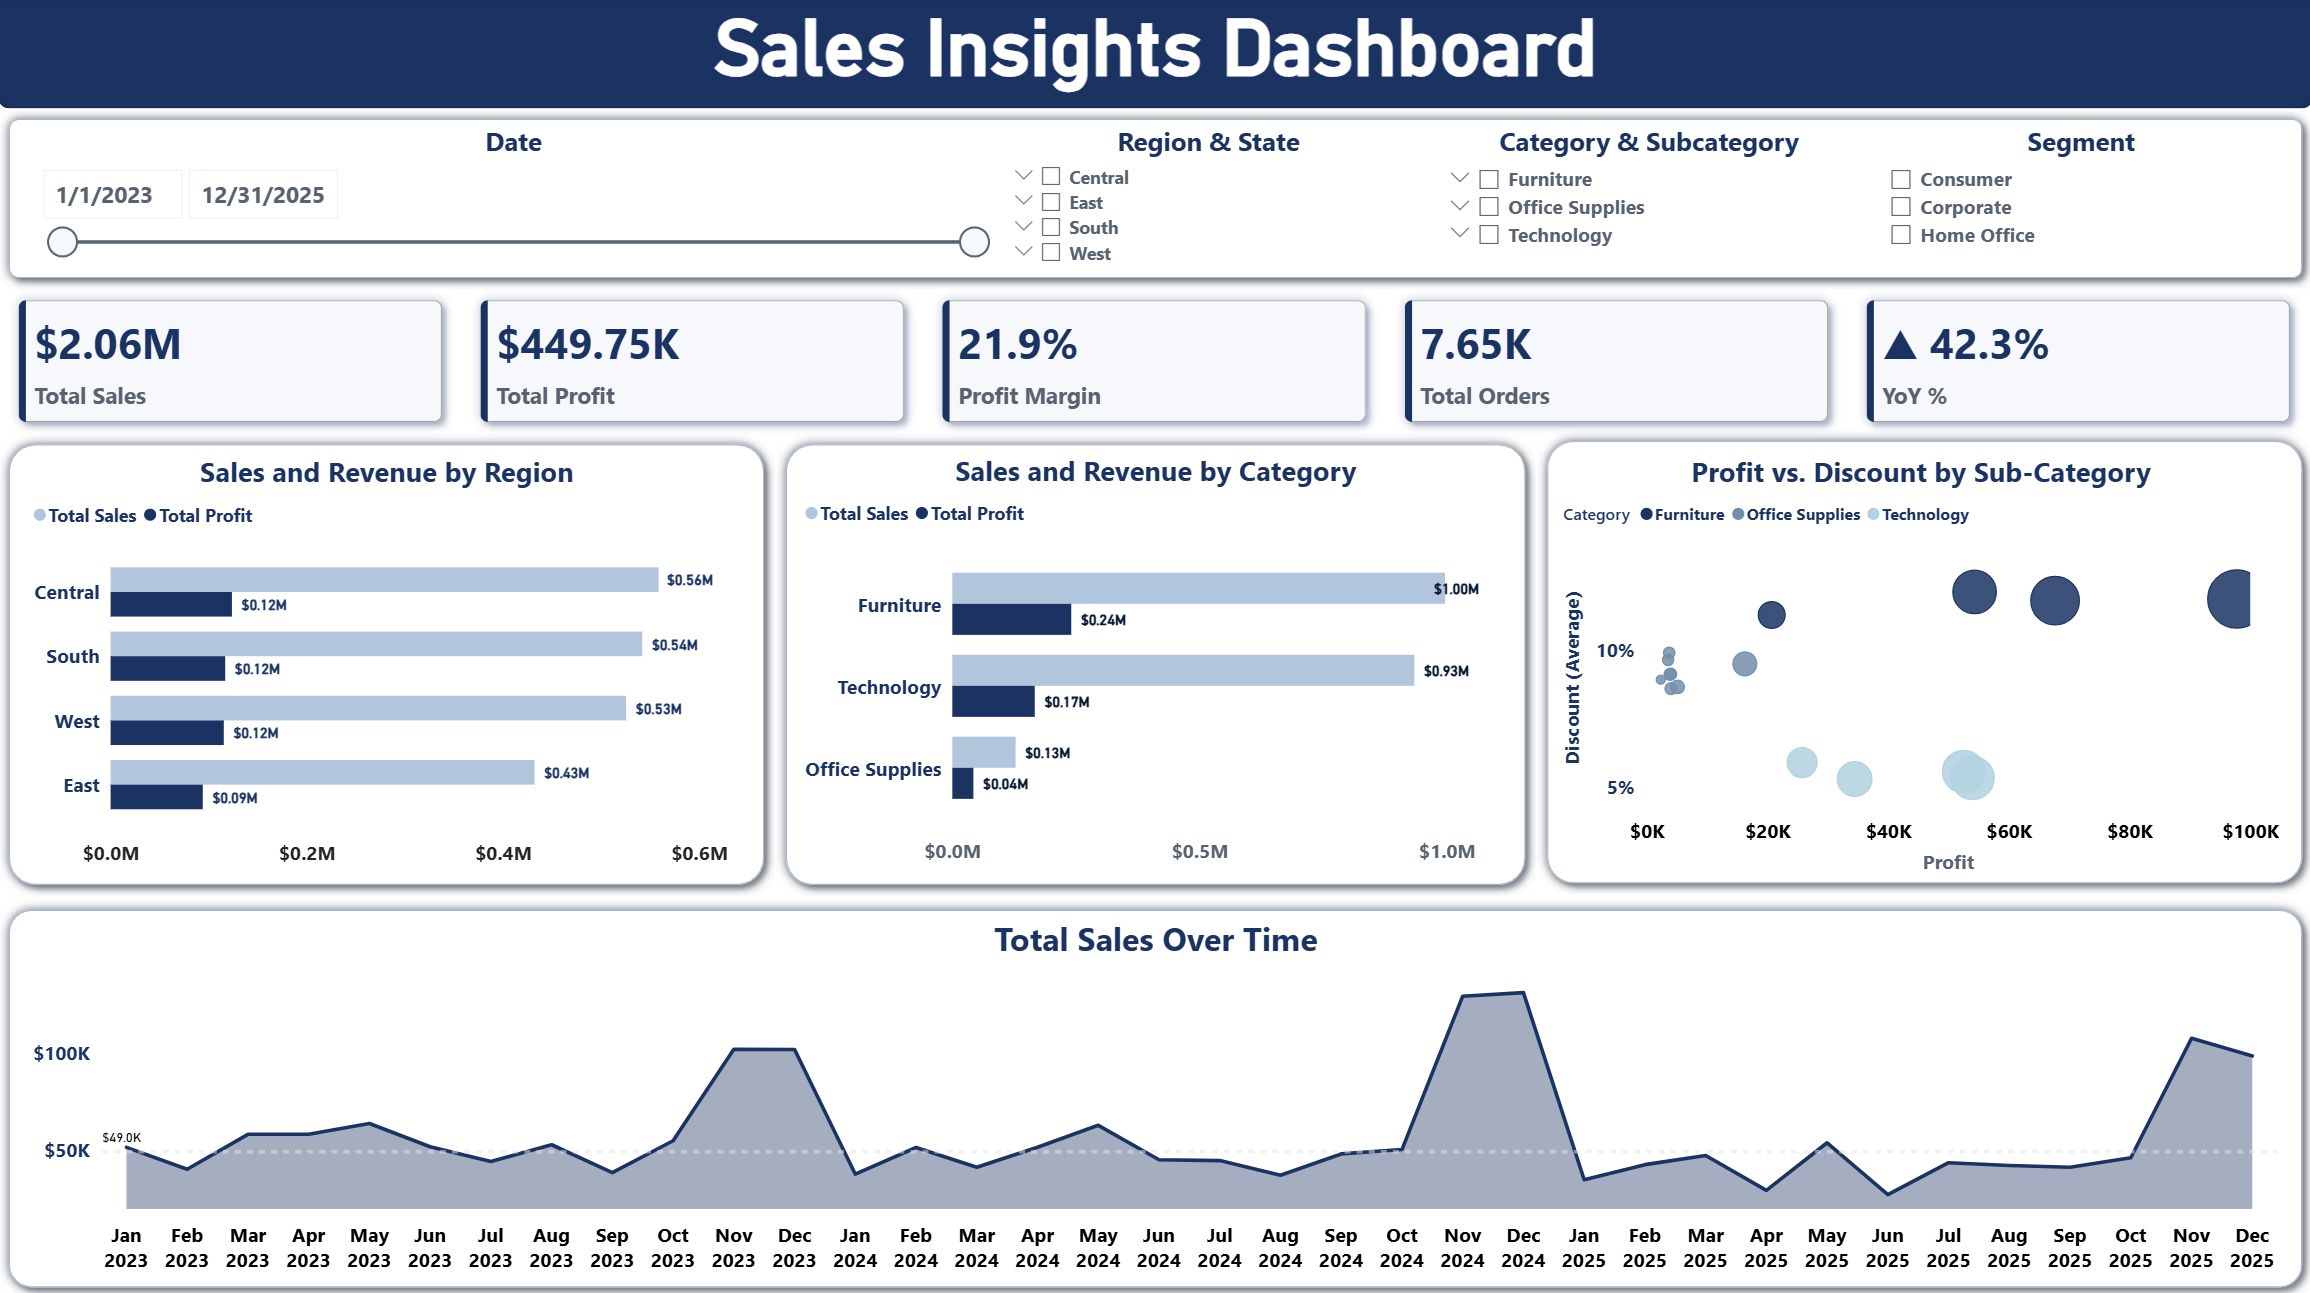

This screenshot's page, from the dashboard's own definition file:
{"tool":"powerbi","page":{"name":"Sales Insights Dashboard","canvas":[1920,1080],"ordinal":0},"visuals":[{"type":"cardVisual","fields":{"Data":["Sum(retail_sales_data.Sales)","Sum(retail_sales_data.Profit)","retail_sales_data.Profit Margin","retail_sales_data.Total Orders","retail_sales_data.YoY Display"]},"box":[0,234.8,1919.3,135.3],"z":0},{"type":"shape","box":[0,0,1919.3,92.9],"z":1000},{"type":"textbox","box":[0,0,1919.2,85.6],"z":2000},{"type":"shape","box":[0,92.9,1919.3,150],"z":3000},{"type":"shape","box":[0,748.5,1919.3,331],"z":4000},{"type":"slicer","title":"Date","fields":{"Values":["Date.Date"]},"box":[24.5,106,805.6,123.9],"z":5000},{"type":"slicer","title":"Region & State","fields":{"Values":["retail_sales_data.Region","retail_sales_data.State"]},"box":[830,106,347.3,123.9],"z":6000},{"type":"slicer","title":"Segment","fields":{"Values":["retail_sales_data.Segment"]},"box":[1557.3,106,340.8,123.9],"z":7000},{"type":"slicer","title":"Category & Subcategory","fields":{"Values":["retail_sales_data.Category","retail_sales_data.Sub_Category"]},"box":[1190.4,106,355.5,123.9],"z":8000},{"type":"lineChart","title":"Total Sales Over Time","fields":{"Category":["Date.Month Year"],"Y":["retail_sales_data.Total Sales"]},"box":[22.8,763.2,1873.7,303.3],"z":9000},{"type":"shape","box":[644.1,362,631.1,383.2],"z":10000},{"type":"shape","box":[1275.2,360.4,644.1,384.8],"z":11000},{"type":"shape","box":[0,362,644.1,383.2],"z":12000},{"type":"clusteredBarChart","title":"Sales and Revenue by Region","fields":{"Category":["retail_sales_data.Region","retail_sales_data.State"],"Y":["retail_sales_data.Total Sales","retail_sales_data.Total Profit"]},"box":[22.8,378.3,598.5,353.9],"z":13000},{"type":"clusteredBarChart","title":"Sales and Revenue by Category","fields":{"Y":["retail_sales_data.Total Sales","retail_sales_data.Total Profit"],"Category":["retail_sales_data.Category","retail_sales_data.Sub_Category"]},"box":[662.7,377.9,593.8,353.7],"z":14000},{"type":"scatterChart","title":"Profit vs. Discount by Sub-Category","fields":{"Category":["retail_sales_data.Sub_Category"],"X":["retail_sales_data.Total Profit"],"Size":["retail_sales_data.Total Profit"],"Y":["Date.Discount (Avg)"],"Series":["retail_sales_data.Category"]},"box":[1293.1,378.3,603.4,353.9],"z":15000}]}

Visuals, with their boxes in screenshot pixels (x1, y1, x2, y2), scaled from the page's 1920x1080 canvas onto the 2310x1293 screenshot:
cardVisual - Sum(retail_sales_data.Sales) x Sum(retail_sales_data.Profit): <bbox>0, 281, 2309, 443</bbox>
shape: <bbox>0, 0, 2309, 111</bbox>
textbox: <bbox>0, 0, 2309, 102</bbox>
shape: <bbox>0, 111, 2309, 291</bbox>
shape: <bbox>0, 896, 2309, 1292</bbox>
"Date" slicer: <bbox>29, 127, 999, 275</bbox>
"Region & State" slicer: <bbox>999, 127, 1416, 275</bbox>
"Segment" slicer: <bbox>1874, 127, 2284, 275</bbox>
"Category & Subcategory" slicer: <bbox>1432, 127, 1860, 275</bbox>
"Total Sales Over Time" lineChart: <bbox>27, 914, 2282, 1277</bbox>
shape: <bbox>775, 433, 1534, 892</bbox>
shape: <bbox>1534, 431, 2309, 892</bbox>
shape: <bbox>0, 433, 775, 892</bbox>
"Sales and Revenue by Region" clusteredBarChart: <bbox>27, 453, 748, 877</bbox>
"Sales and Revenue by Category" clusteredBarChart: <bbox>797, 452, 1512, 876</bbox>
"Profit vs. Discount by Sub-Category" scatterChart: <bbox>1556, 453, 2282, 877</bbox>
